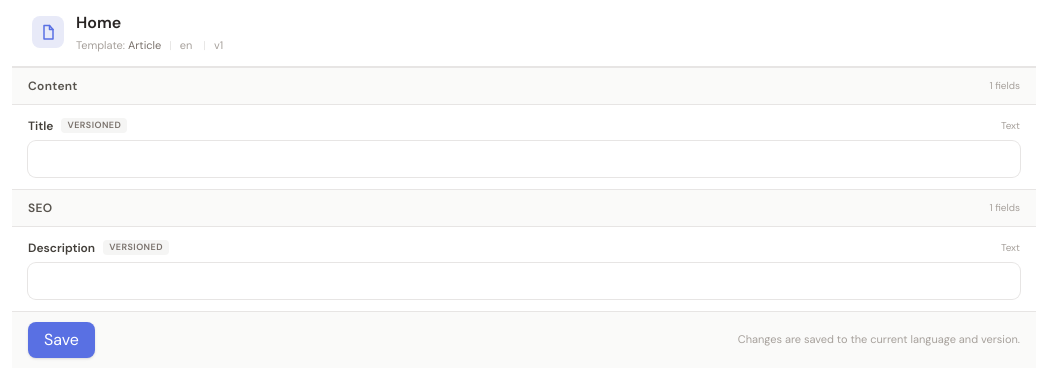
ContentEditor sections › lets authors open and close each field section independently
The image size is (1048, 377).
Expected: the button "SEO 1 fields" is shown, 12,188 -> 1036,226
Click the button "Content 1 fields": (53, 86) 12,66 -> 1036,104
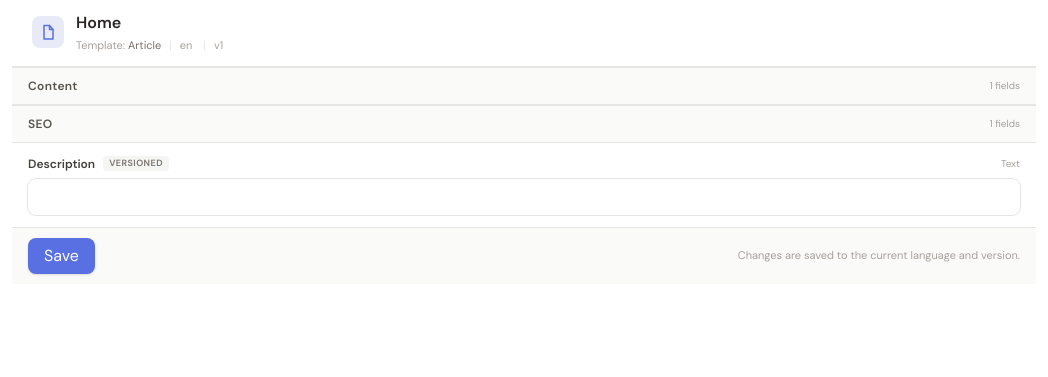
Expected: the text "Description" is shown, 28,154 -> 95,172
Result: the text "Title" is gone
Click the button "Content 1 fields": (53, 86) 12,66 -> 1036,104
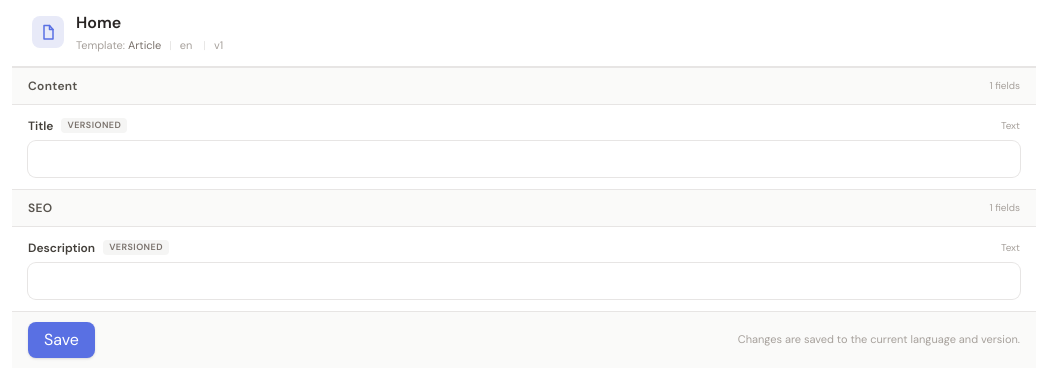
Expected: the text "Description" is shown, 28,238 -> 95,256
Result: the text "Title" is shown at 28,116 -> 53,134
